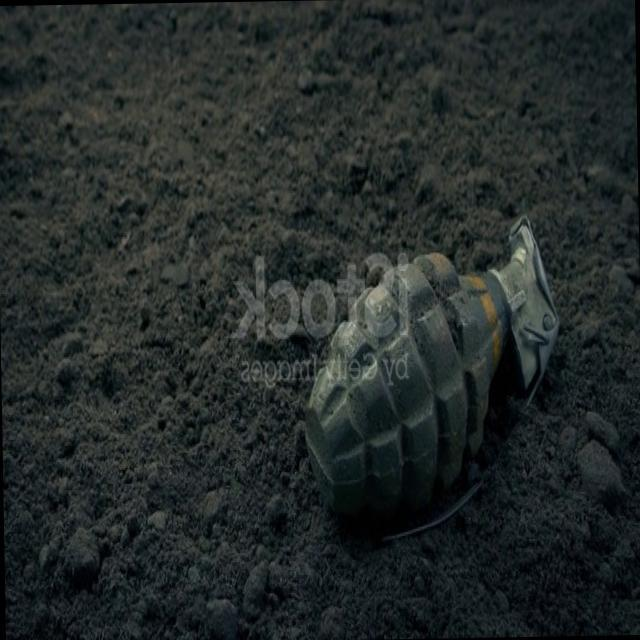grenade: (298, 208, 568, 554)
